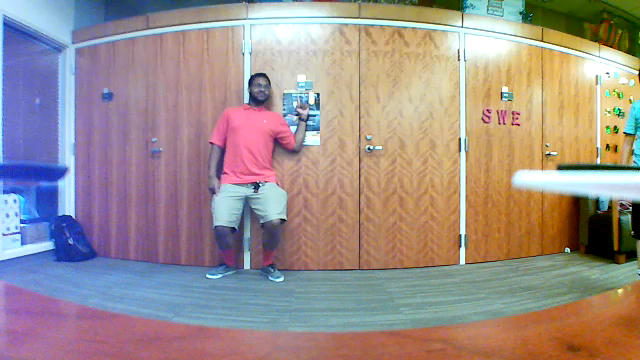up: (289, 93, 314, 122)
